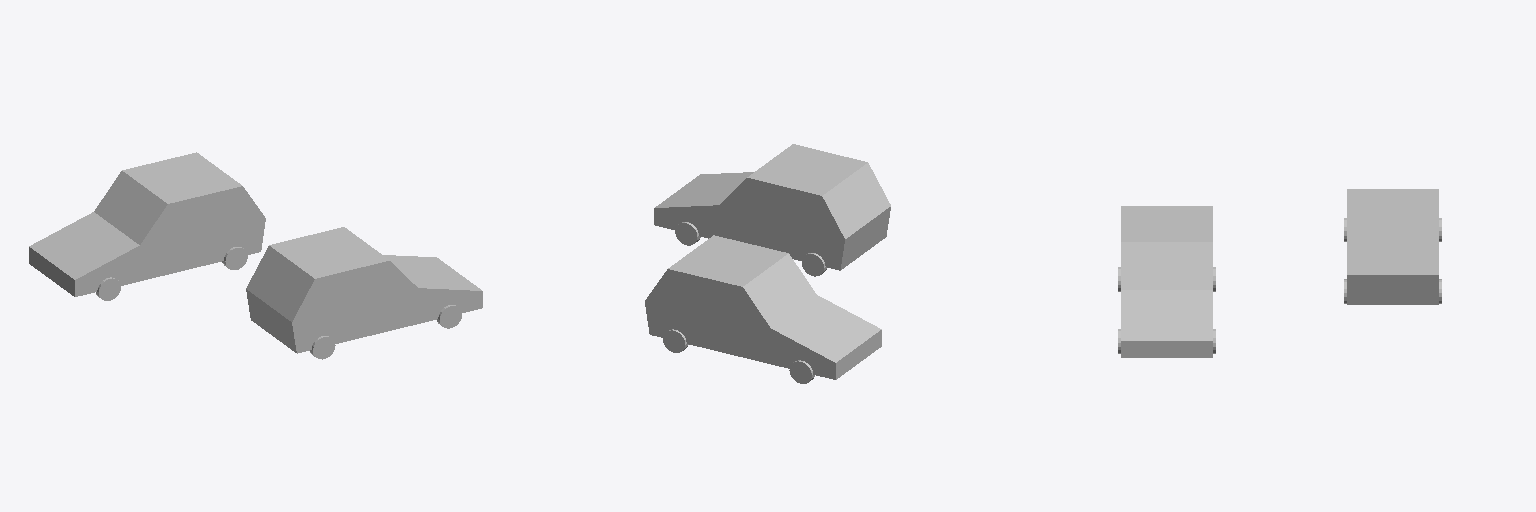
File: car_1.obj
The picture shows the model from 3 angles: view 1: azimuth 30°, elevation 25°; view 2: azimuth 150°, elevation 25°; view 3: azimuth 270°, elevation 25°; orthographic projection.
Visible parts, largest first — view 1: polySurface117; view 2: polySurface117; view 3: polySurface117.
Part boxes in pixels (x1,y1,x2,y2): polySurface117: (29, 152, 482, 359); polySurface117: (645, 144, 890, 383); polySurface117: (1118, 189, 1441, 357).
Bounding box in the file's own units: 6.06 × 1.59 × 5.77.